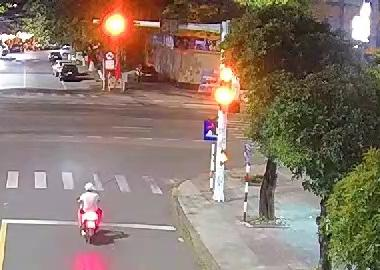stop_line: (2, 216, 186, 233)
yellow_light: (104, 12, 129, 39), (214, 87, 234, 103), (218, 66, 235, 82)
